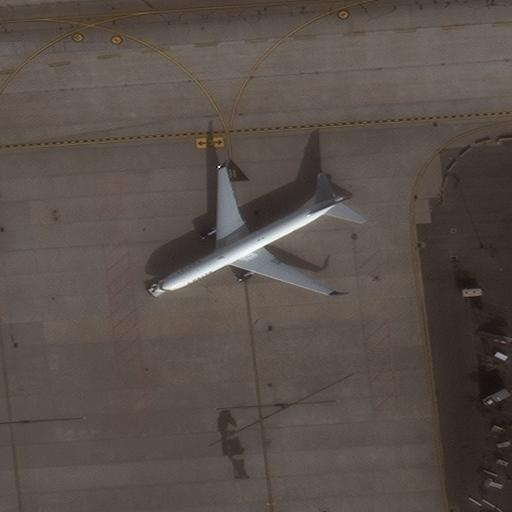Large Civil Transport: (153, 167, 345, 296)
